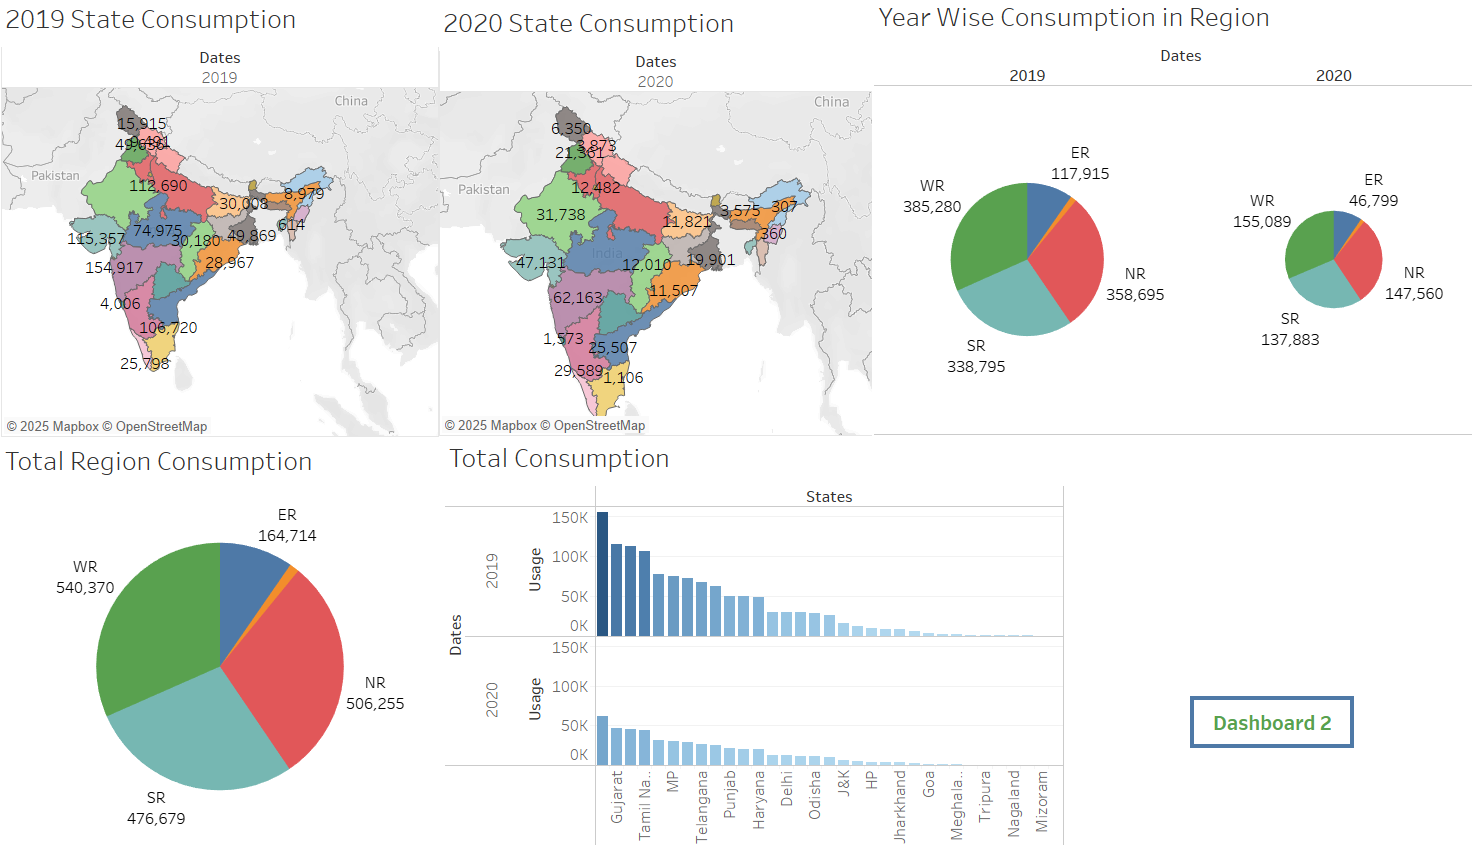

This screenshot's page, from the dashboard's own definition file:
{"tool":"tableau","page":{"name":"Dashboard 1","canvas":[1000,1000],"units":"permille","ordinal":0},"visuals":[{"type":"worksheet","title":"Year Wise Consumption in Region","mark":"Pie","cols":["Dates"],"box":[526.2,0,369.9,517]},{"type":"worksheet","title":"2019 State Consumption","mark":"Multipolygon","rows":["latitude"],"cols":["Dates","longitude"],"box":[0.6,2.4,263.7,517]},{"type":"worksheet","title":"2020 State Consumption","mark":"Multipolygon","rows":["latitude"],"cols":["Dates"],"box":[264.3,7,260.7,511.2]},{"type":"legend","title":"2019 State Consumption","param":"[federated.0f68l961e6sr3f194c8j3160mdyu].[none:States:nk]","box":[898.8,9.4,96.4,578.1]},{"type":"worksheet","title":"Total Consumption","mark":"Automatic","rows":["Dates","Usage"],"cols":["States"],"box":[267.9,518.2,373,481.8]},{"type":"worksheet","title":"Total Region Consumption","mark":"Pie","box":[0.6,521.7,263.7,475.9]},{"type":"legend","title":"Year Wise Consumption in Region","param":"[federated.0f68l961e6sr3f194c8j3160mdyu].[none:Regions:nk]","box":[898.8,587.5,96.4,158.6]},{"type":"legend","title":"Year Wise Consumption in Region","param":"[federated.0f68l961e6sr3f194c8j3160mdyu].[sum:Usage:qk]","box":[898.8,746.2,96.4,158.6]},{"type":"dashboard-object","box":[716.3,823.7,98.8,61.1]},{"type":"legend","title":"Total Consumption","param":"[federated.0f68l961e6sr3f194c8j3160mdyu].[sum:Usage:qk]","box":[898.8,904.8,96.4,85.8]}]}

Visuals, with their boxes on the dashboard's canvas, which has no fixed pixel size, in thousandths of its width and height (x1, y1, x2, y2). These are canvas units, not pixel positions in the 1472x845 screenshot, which may show the page scaled, cropped or inside an application window:
"Year Wise Consumption in Region" worksheet (Pie marks): bbox=(526, 0, 896, 517)
"2019 State Consumption" worksheet (Multipolygon marks): bbox=(1, 2, 264, 519)
"2020 State Consumption" worksheet (Multipolygon marks): bbox=(264, 7, 525, 518)
"2019 State Consumption" legend: bbox=(899, 9, 995, 588)
"Total Consumption" worksheet: bbox=(268, 518, 641, 1000)
"Total Region Consumption" worksheet (Pie marks): bbox=(1, 522, 264, 998)
"Year Wise Consumption in Region" legend: bbox=(899, 588, 995, 746)
"Year Wise Consumption in Region" legend: bbox=(899, 746, 995, 905)
dashboard-object: bbox=(716, 824, 815, 885)
"Total Consumption" legend: bbox=(899, 905, 995, 991)
